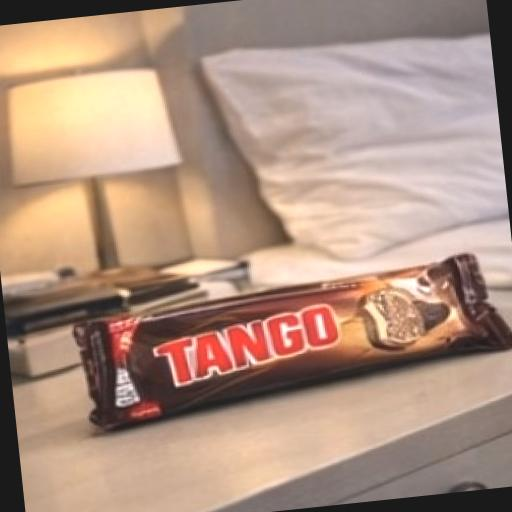tango: (29, 209, 512, 472)
